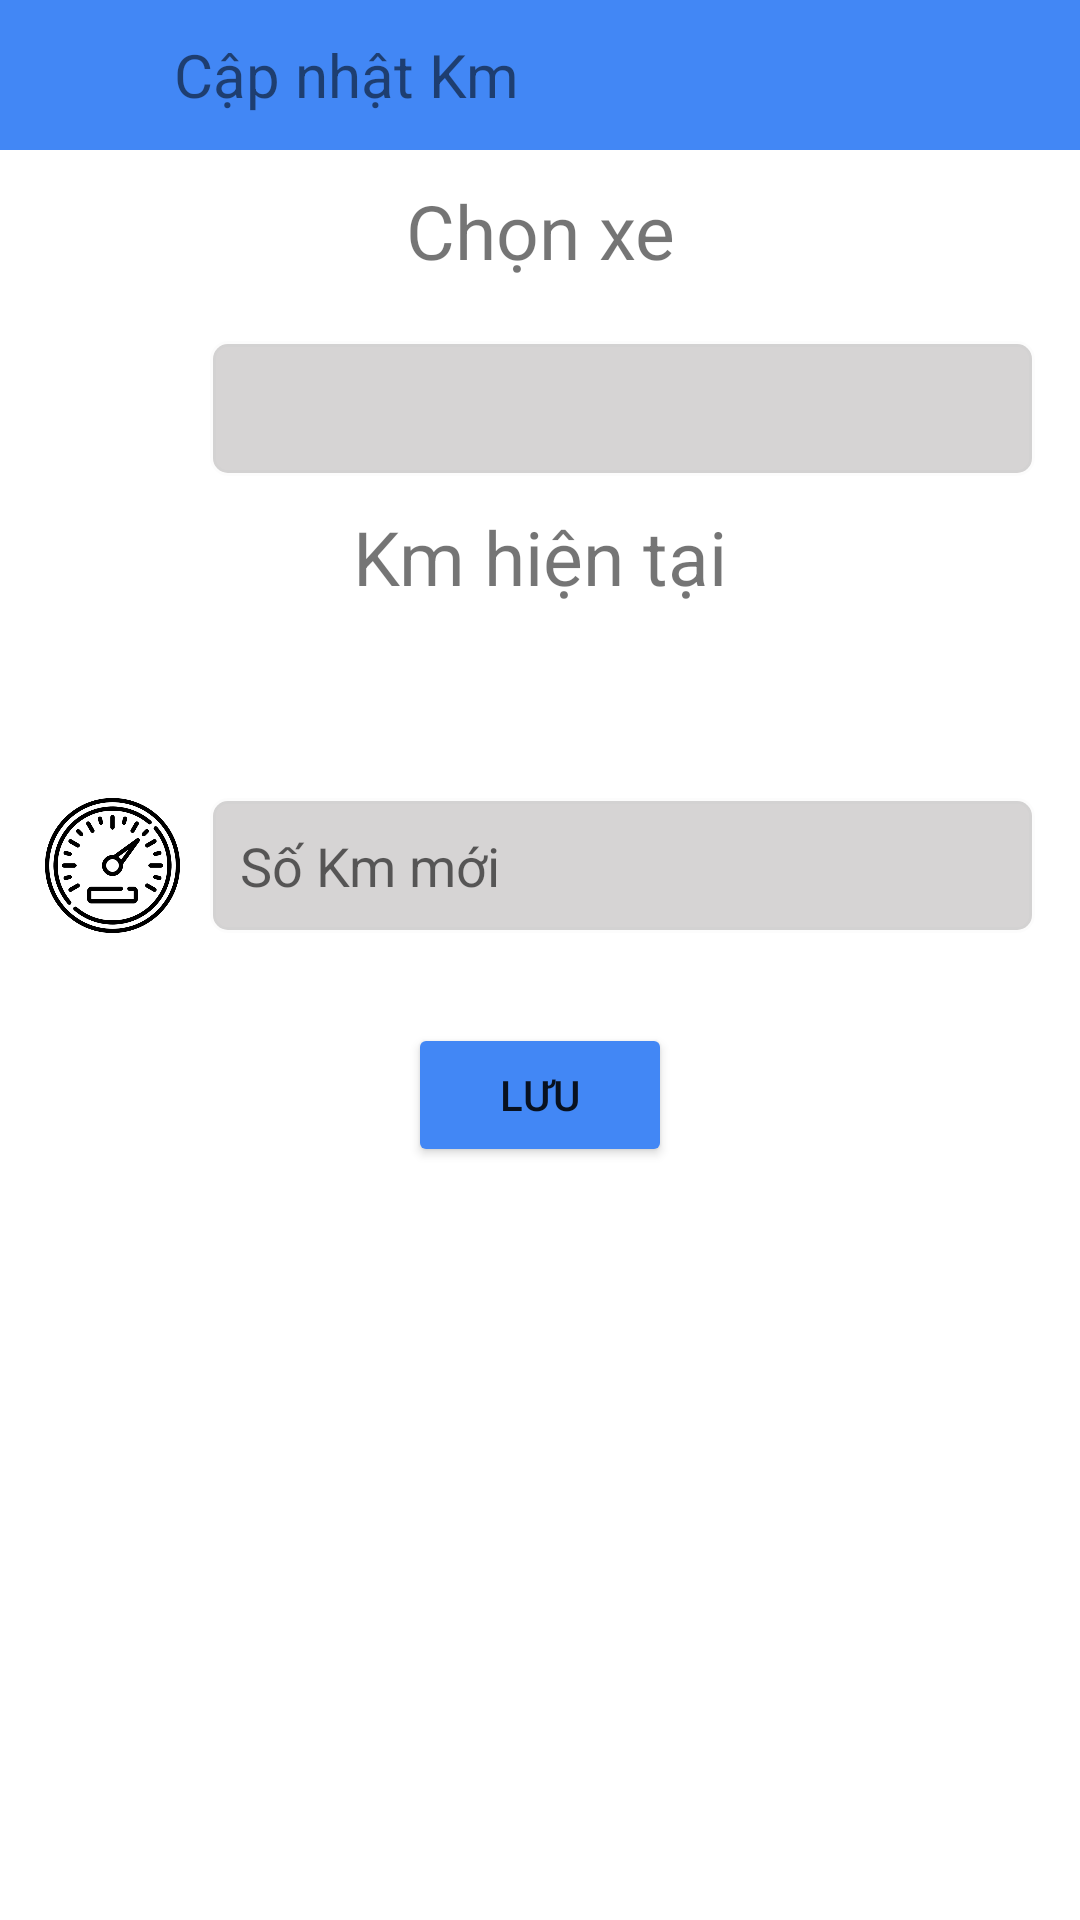

Icon click points for this 1080w x 1920h phone screenshot, format (x,y):
speedometer: (112,865)
